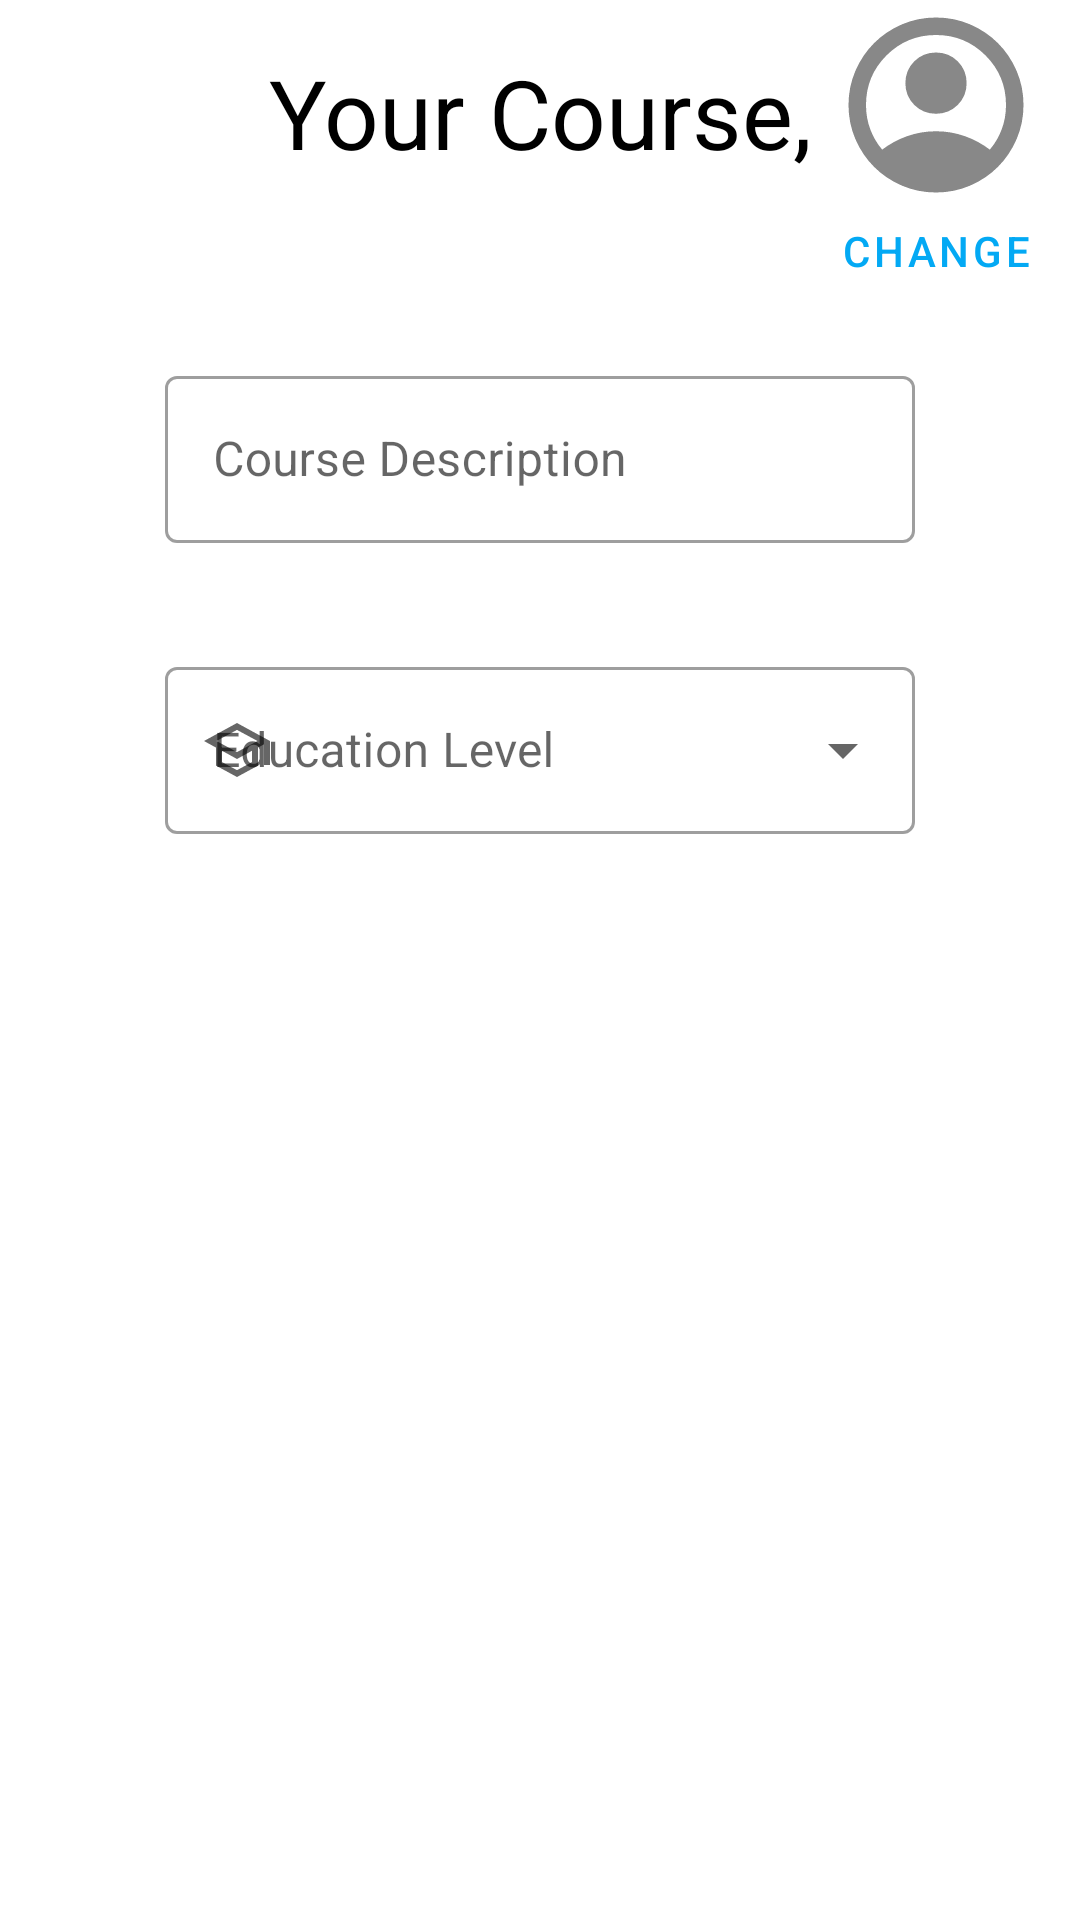

Icons on this 1080px×1920px Android screen, each with the point to tap as [x,y]:
account circle: [936,105]
